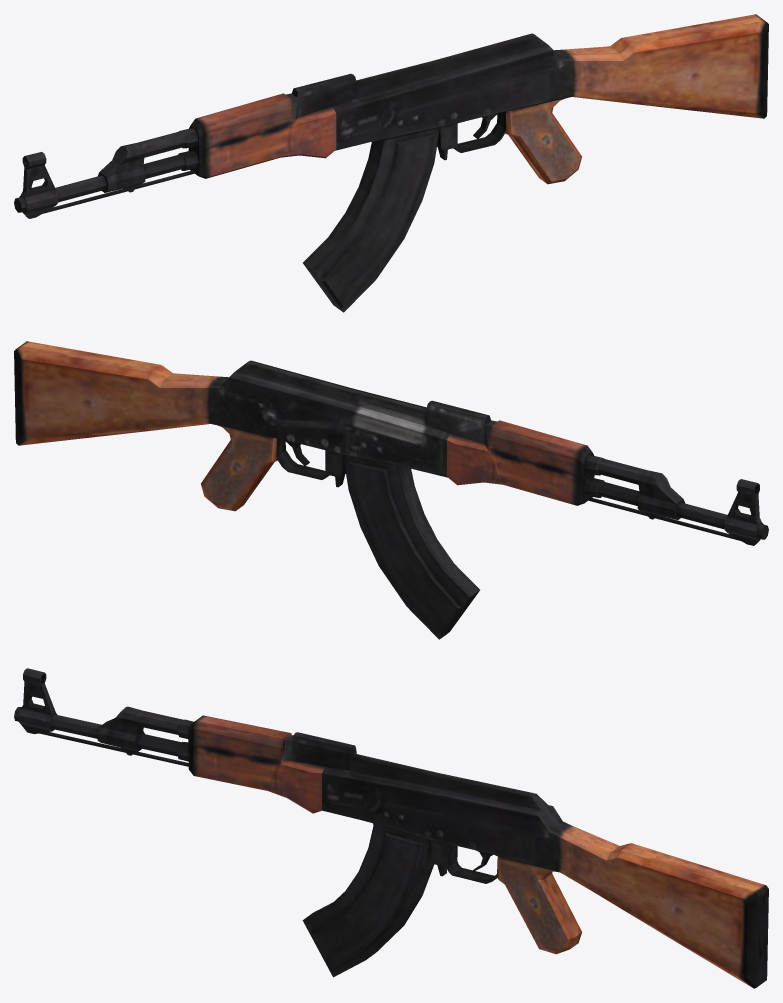
The picture shows the model from 3 angles, top to bottom: view 1: azimuth 30°, elevation 25°; view 2: azimuth 150°, elevation 25°; view 3: azimuth 330°, elevation 25°; orthographic projection.
Parts seen in each view (by area): view 1: AK-47; view 2: AK-47; view 3: AK-47.
Part boxes in pixels (bbox=[...]): AK-47: bbox=[14, 14, 768, 312]; AK-47: bbox=[14, 341, 768, 639]; AK-47: bbox=[14, 668, 768, 988].
Bounding box in the file's own units: 863 × 255 × 33.31.
1 material, 1 textured.
